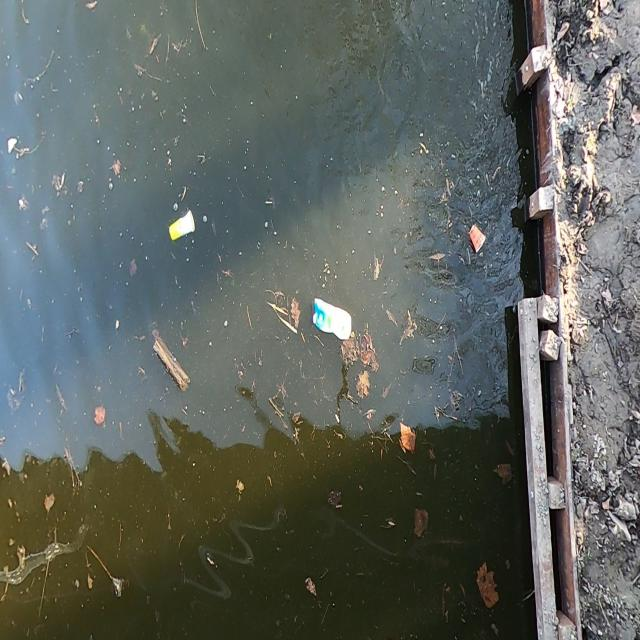Non plastique: (308, 286, 358, 346), (167, 207, 199, 248), (467, 225, 492, 261)
